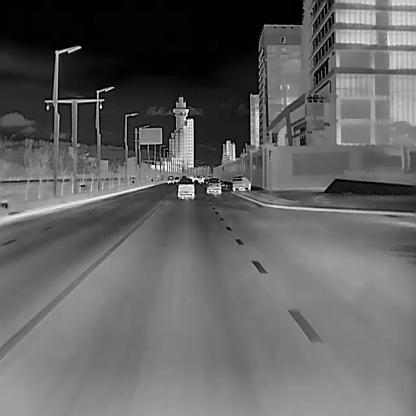car: (177, 178, 195, 198), (231, 175, 251, 191), (206, 176, 220, 193), (167, 175, 173, 182)
